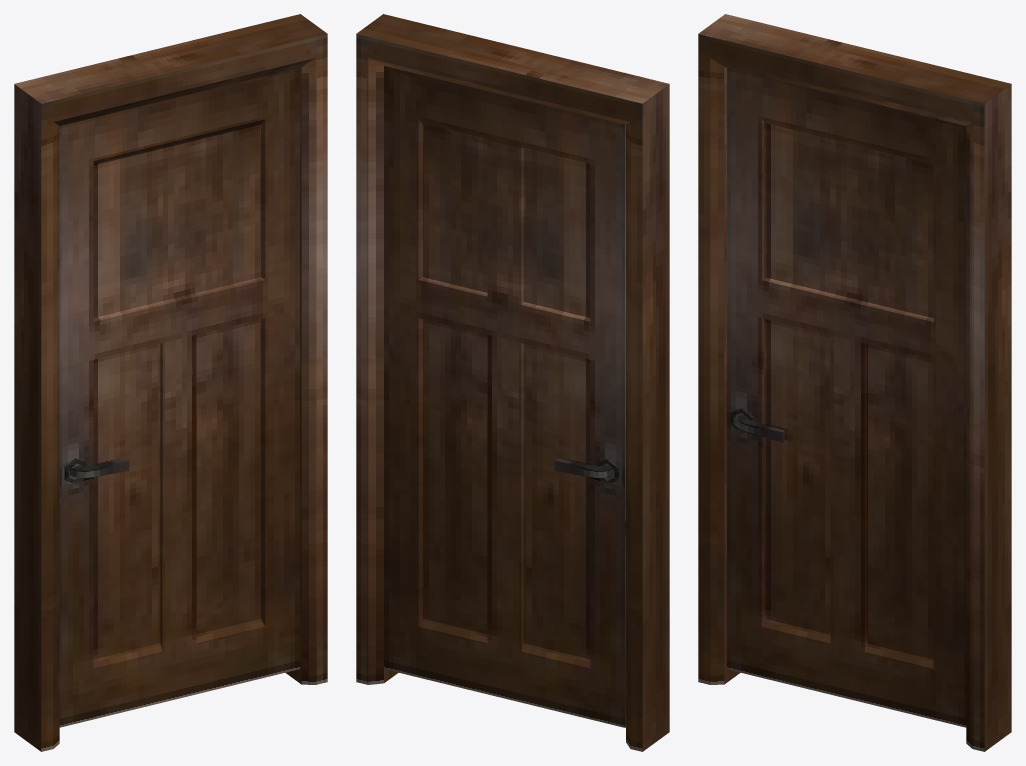
The model's file is door_worn.glb.
3 renders of one model, left to right at view 1: azimuth 30°, elevation 25°; view 2: azimuth 150°, elevation 25°; view 3: azimuth 330°, elevation 25°, orthographic.
Visible parts, largest first — view 1: door_worn; view 2: door_worn; view 3: door_worn.
Boxes of the visible parts, <box> form: door_worn: <box>14,14,327,751</box>; door_worn: <box>356,14,669,751</box>; door_worn: <box>698,14,1011,751</box>.
Size of the model in its own units: 0.897 by 1.94 by 0.1629.
1 material, 1 textured.
